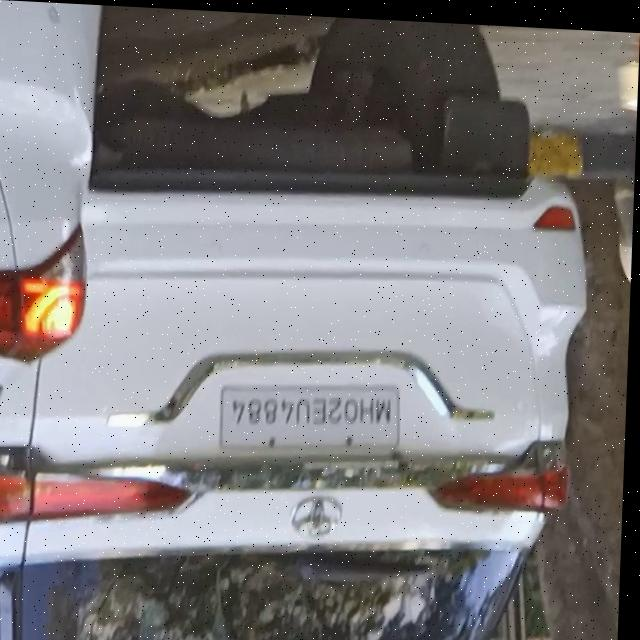plate: (222, 373, 409, 455)
